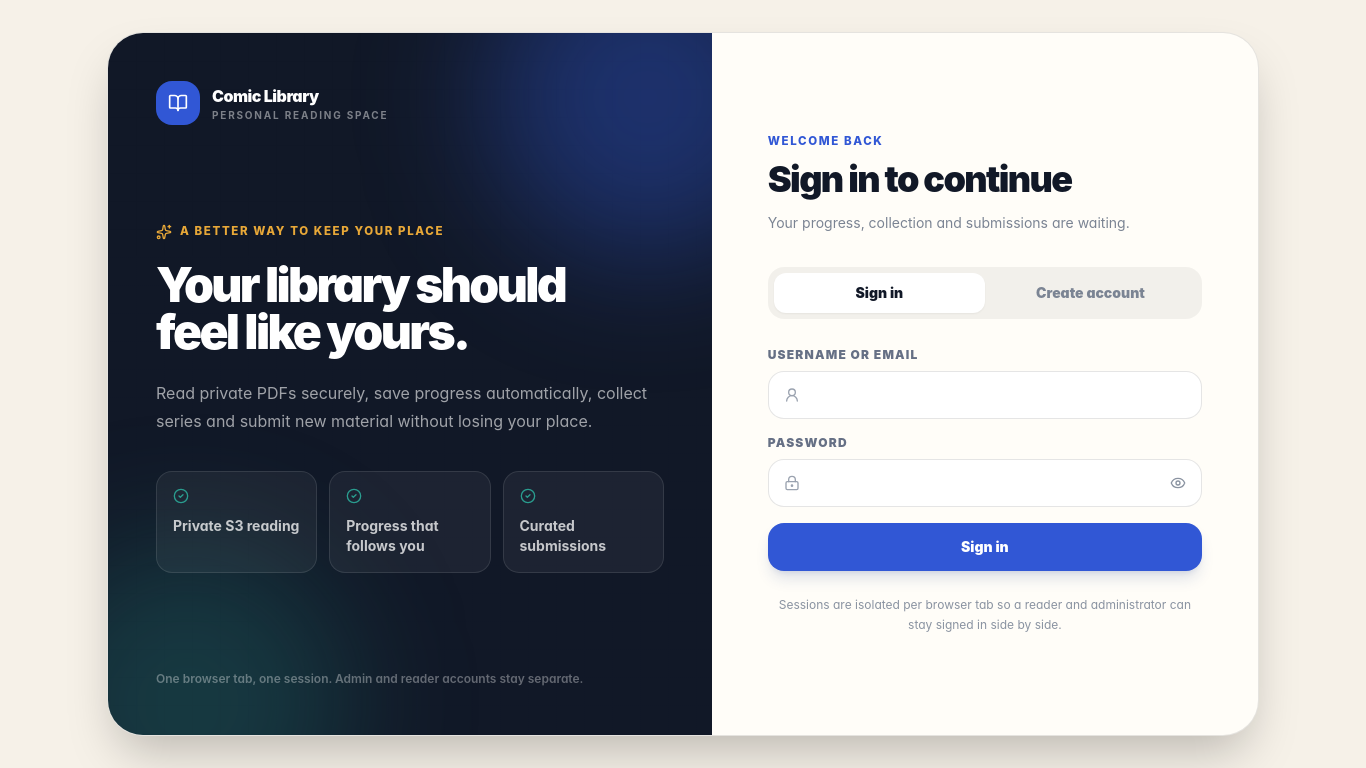
Test: Login page › switches to registration mode and shows required fields
The image size is (1366, 768).
Click the button "Create account": [1090, 293] box [985,273,1196,313]
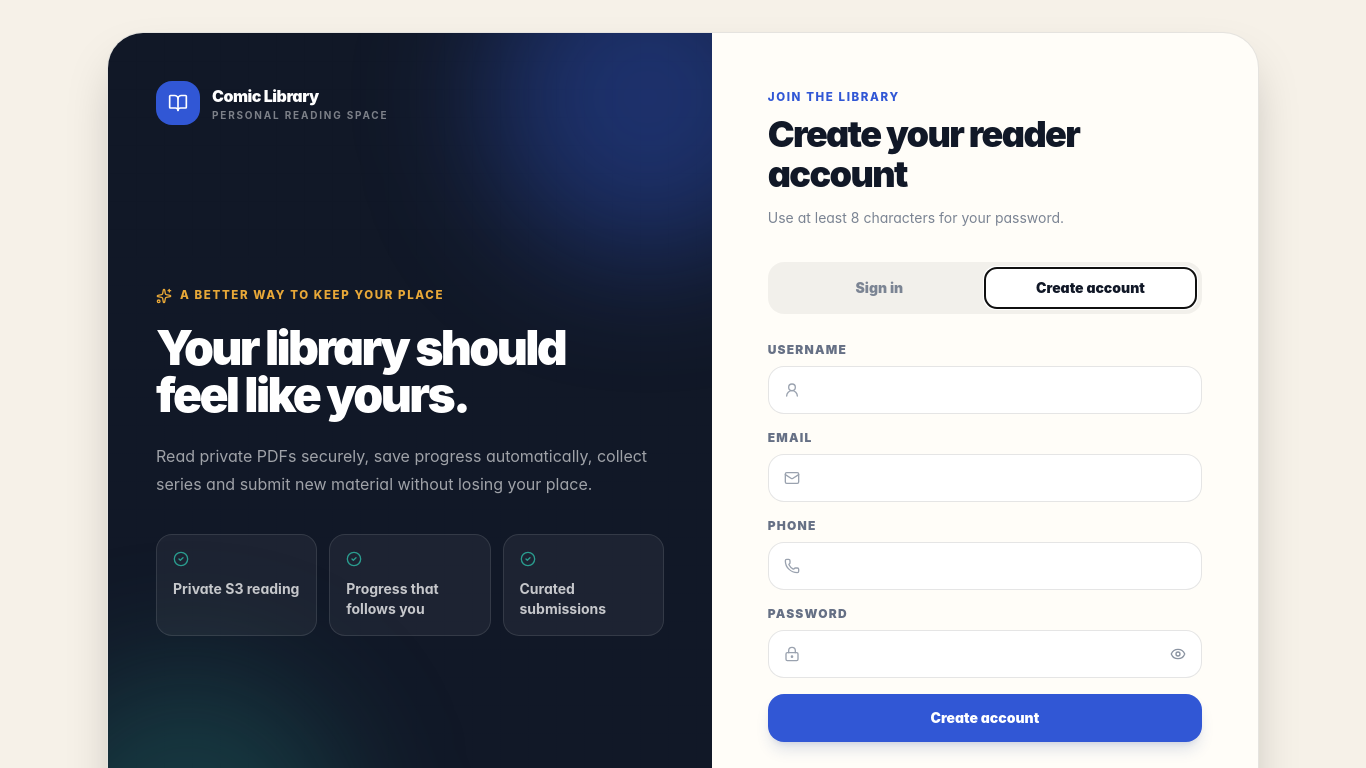
expect the heading "Create your reader account" is shown: met, box [768,112,1079,196]
